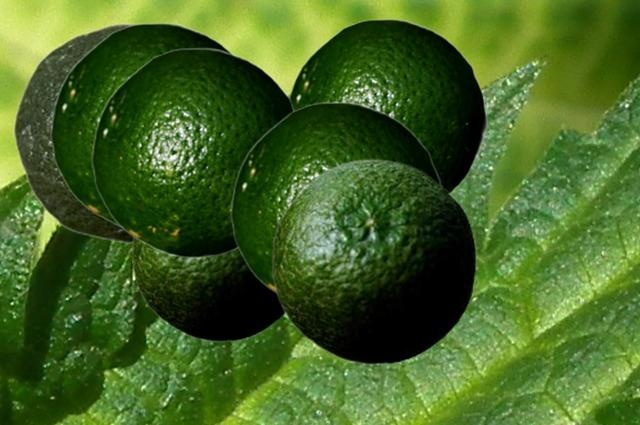calamansi: (91, 47, 296, 257), (271, 158, 475, 364), (230, 101, 444, 296), (50, 22, 234, 230), (288, 18, 487, 194), (13, 23, 134, 242), (131, 238, 284, 341)
